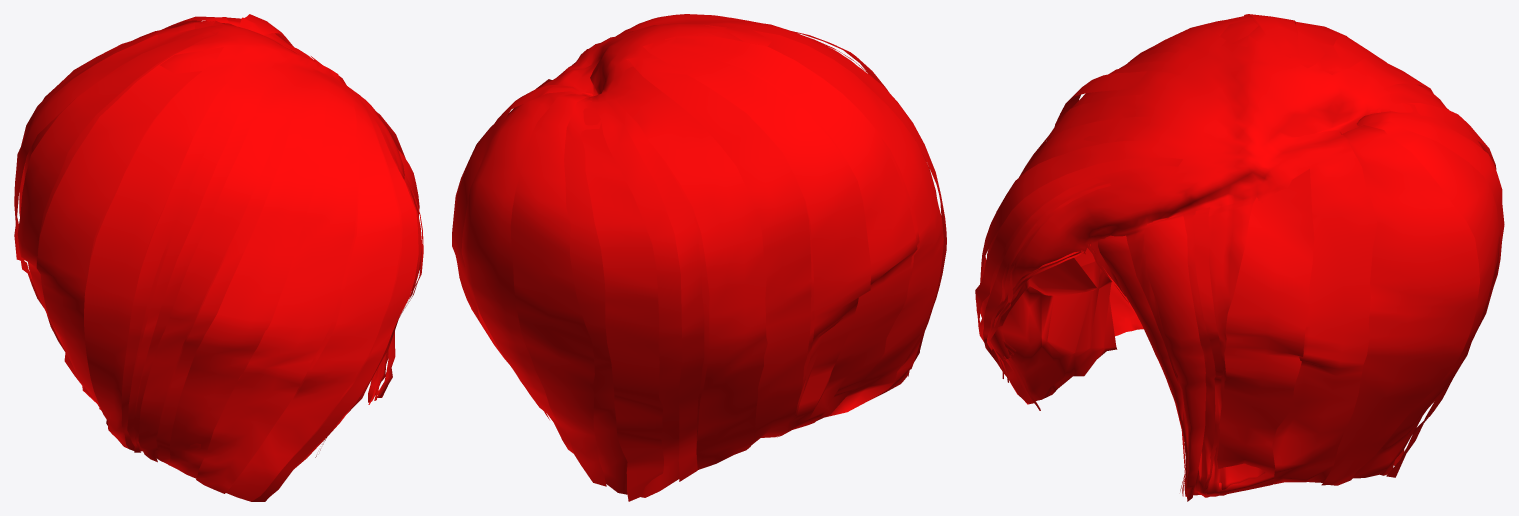
File: bob01_M.glb
3 renders of one model, left to right at view 1: azimuth 30°, elevation 25°; view 2: azimuth 150°, elevation 25°; view 3: azimuth 270°, elevation 25°, orthographic. The views are drawn at different scales.
Size of the model in its own units: 0.2387 by 0.2381 by 0.2694.
1 material, 1 textured.
